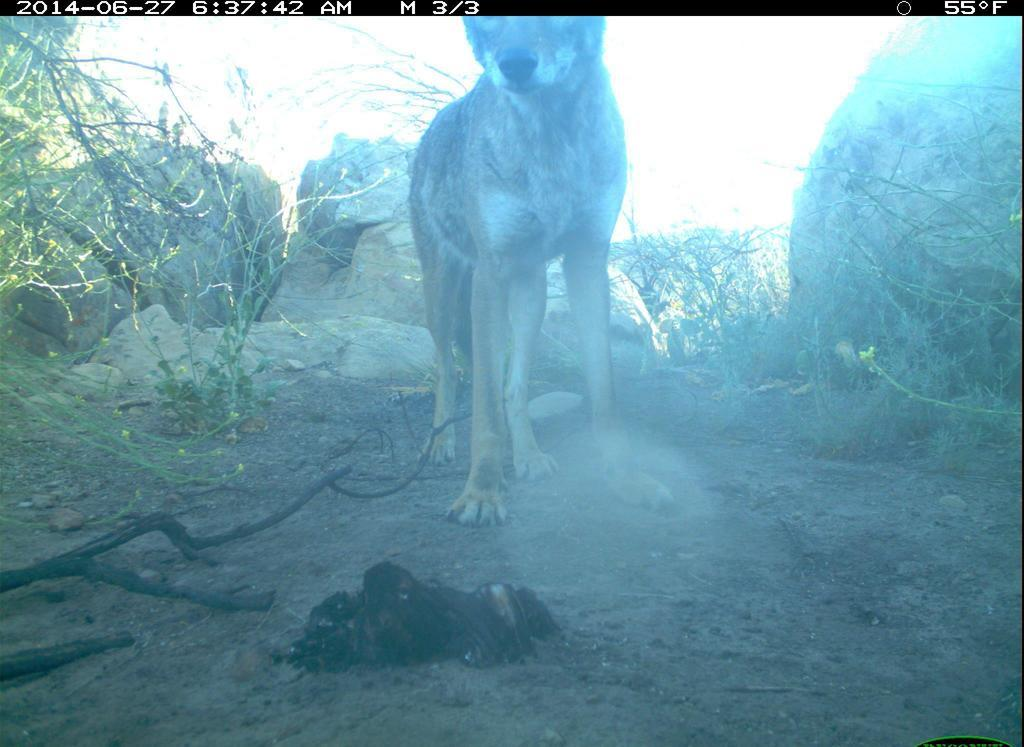coyote: (393, 17, 688, 551)
